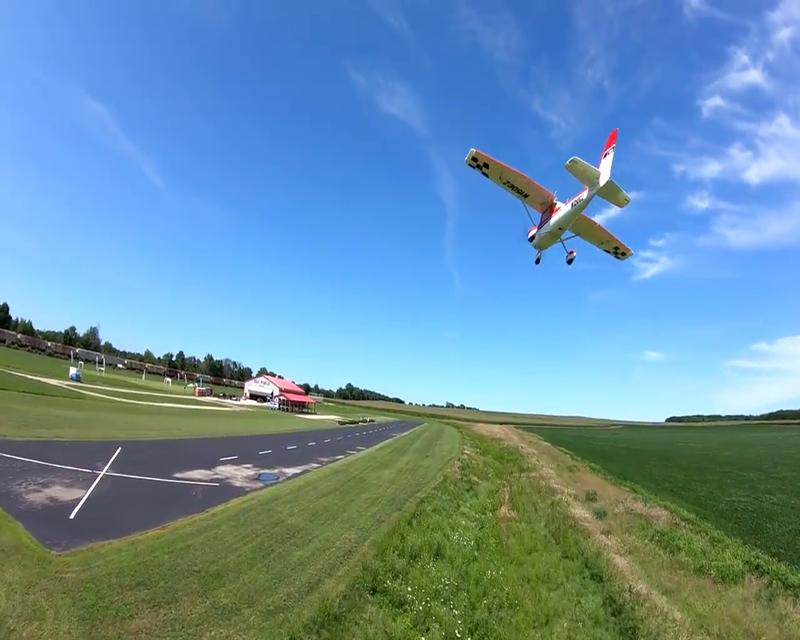UAV: (464, 128, 635, 268)
